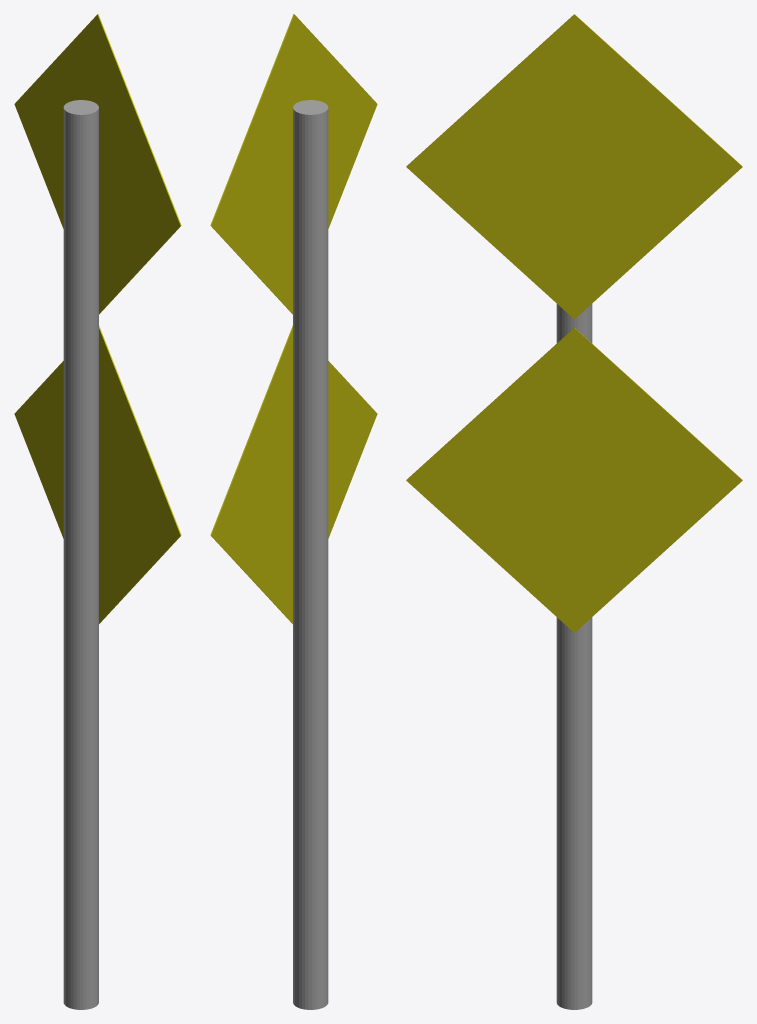
The model's file is (Multi)StreetSign4WIP.fbx.
3 views of the same model, side by side, from view 1: azimuth 30°, elevation 25°; view 2: azimuth 150°, elevation 25°; view 3: azimuth 270°, elevation 25° (orthographic).
Parts seen in each view (by area): view 1: Plane.001; view 2: Plane.001; view 3: Plane.001.
Part boxes in pixels (<box>): Plane.001: <box>14,14,181,1009</box>; Plane.001: <box>210,14,377,1009</box>; Plane.001: <box>406,14,742,1009</box>.
Bounding box in the file's own units: 14.96 × 433 × 133.
